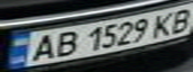1: (81, 24, 106, 52)
2: (115, 18, 139, 47)
5: (100, 20, 121, 50)
9: (130, 16, 154, 43)
A: (24, 32, 63, 63)
B: (48, 28, 81, 58), (163, 6, 193, 35)
K: (148, 10, 181, 38)
